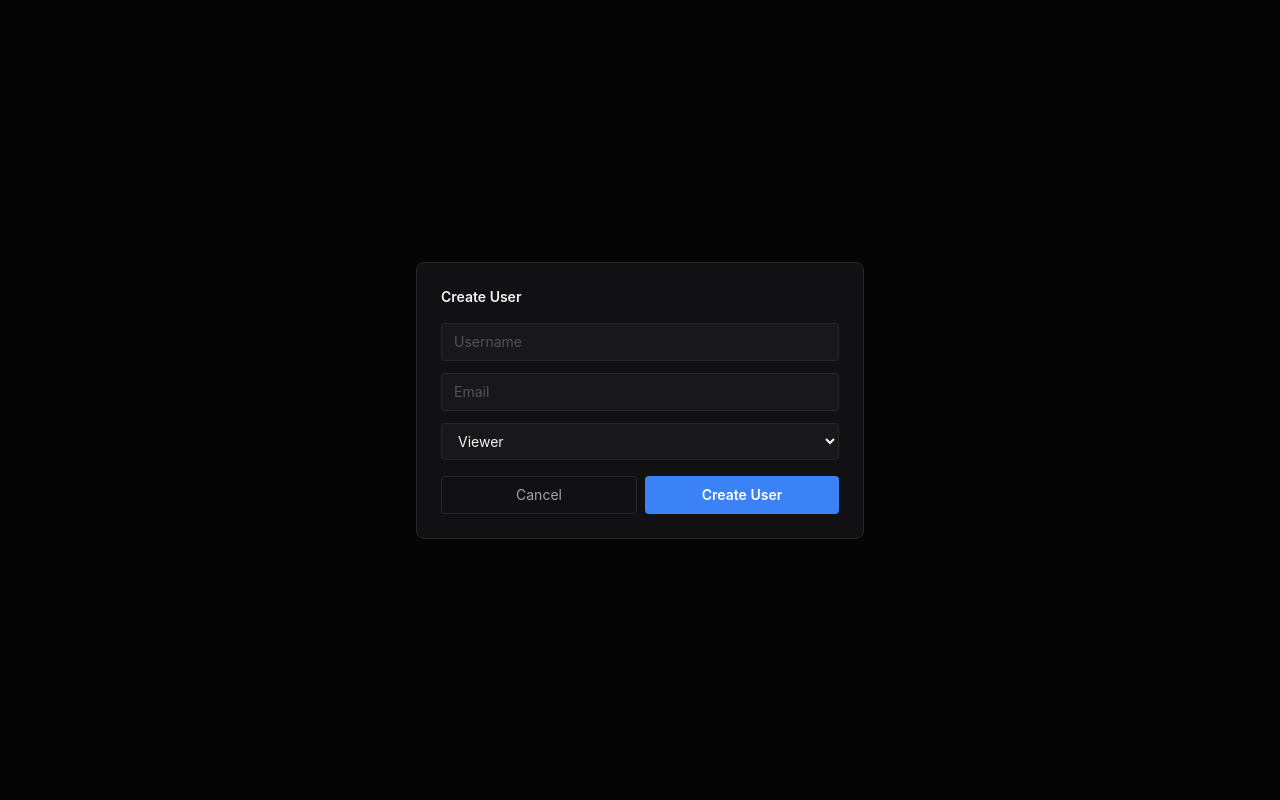
Test: CreateUserModal › shows generic error for non-Error rejection
Type "newuser" into the field with placeholder "Username" at (640, 342), box x1=441 y1=322 x2=839 y2=360
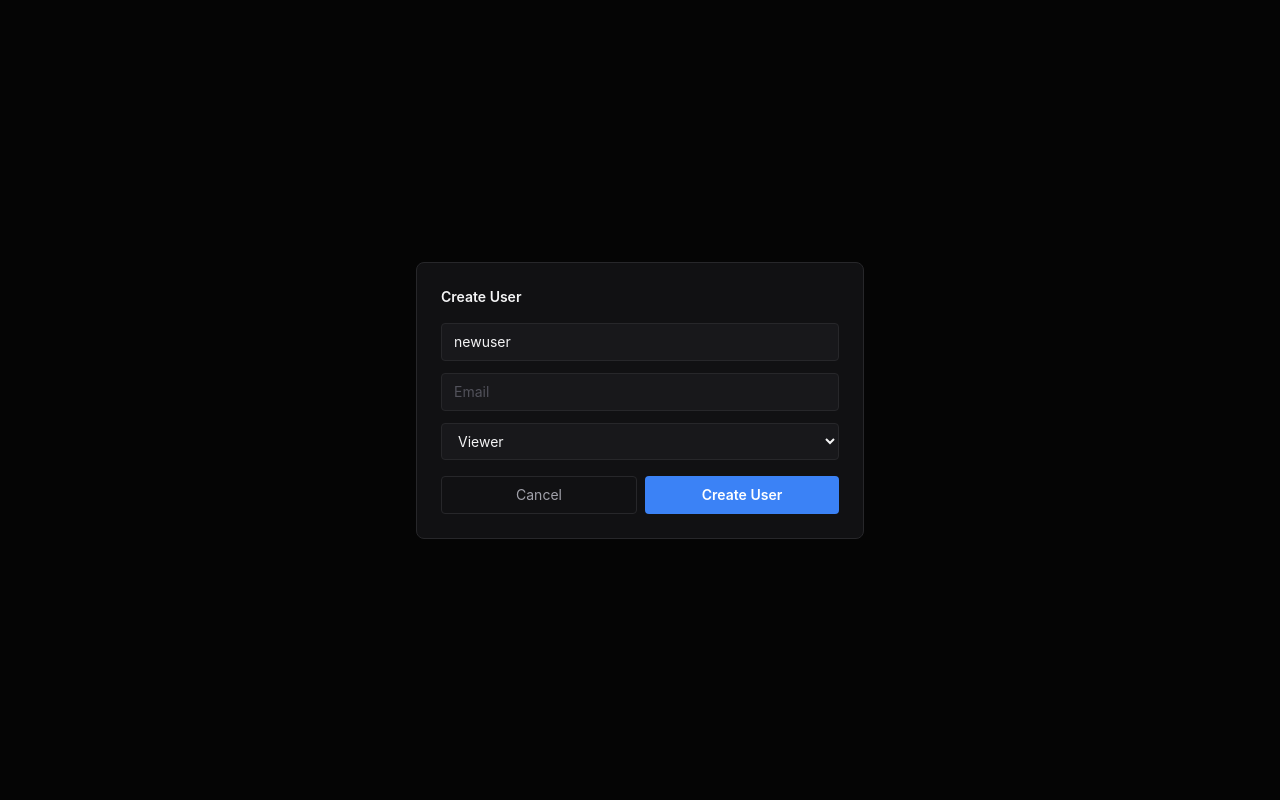
Type "new@b.com" into the field with placeholder "Email" at (640, 392), box x1=441 y1=372 x2=839 y2=410
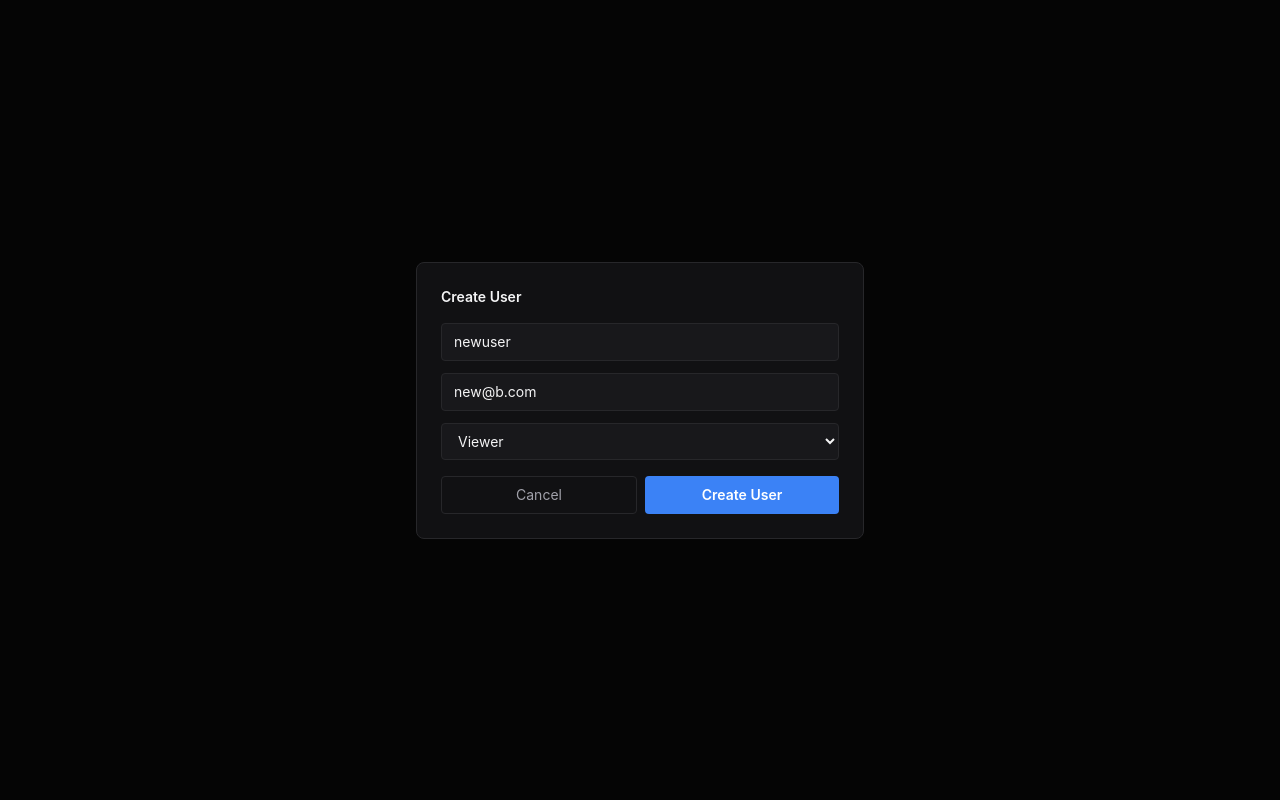
Submit the form "Create User Cancel Create User", box x1=441 y1=286 x2=839 y2=514
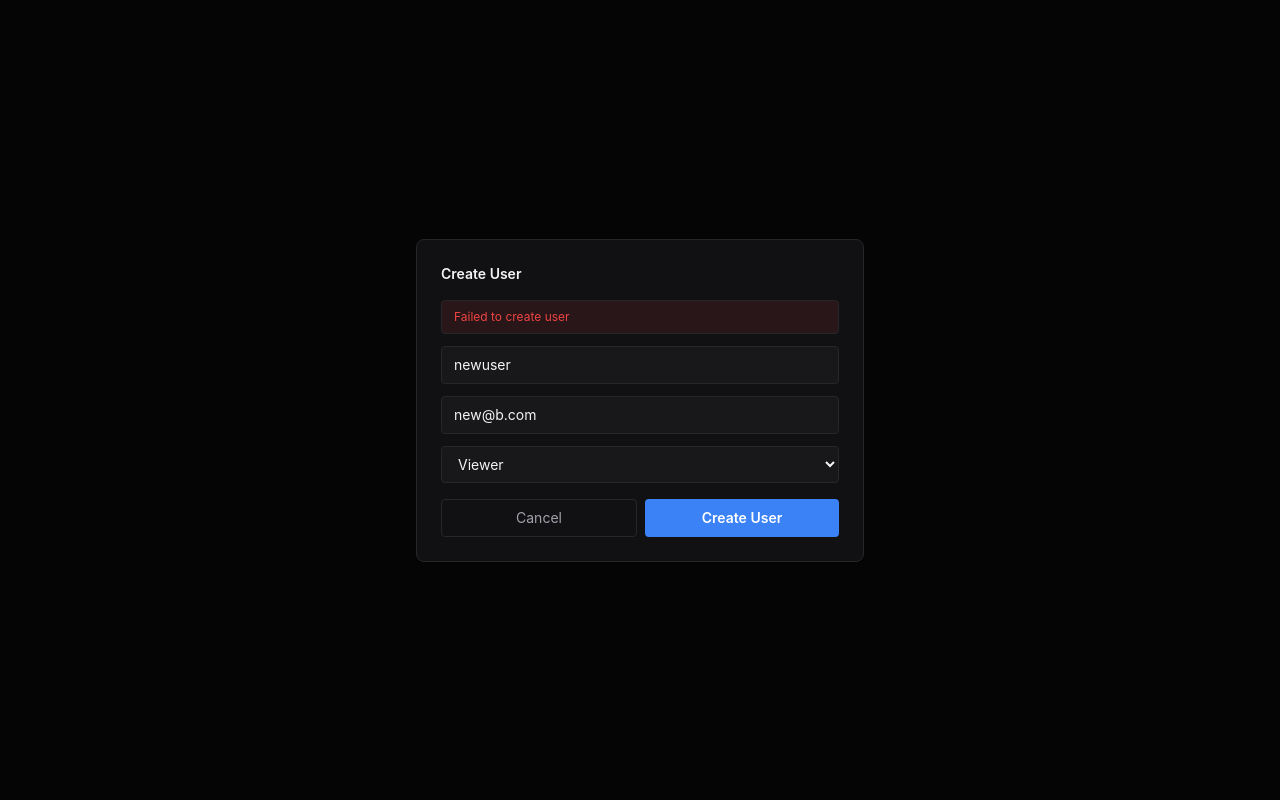
Check: the text "Failed to create user" is shown, box x1=441 y1=300 x2=839 y2=334
